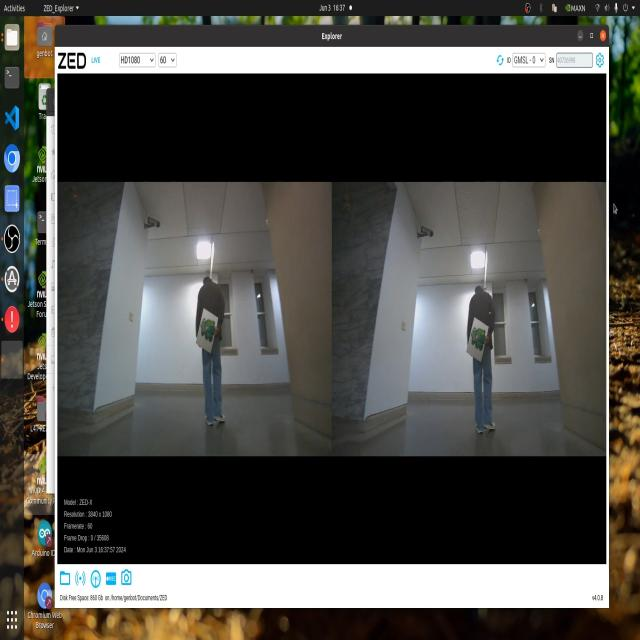green: (191, 312, 221, 356), (465, 316, 489, 368)
